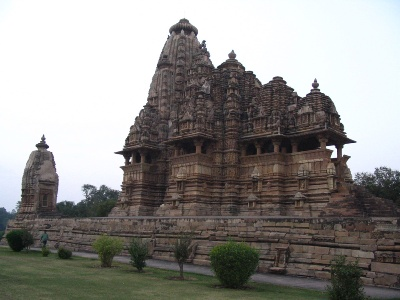gopuram: (139, 23, 217, 126), (15, 148, 63, 198)
mandapa: (236, 129, 345, 158), (111, 144, 167, 170)
